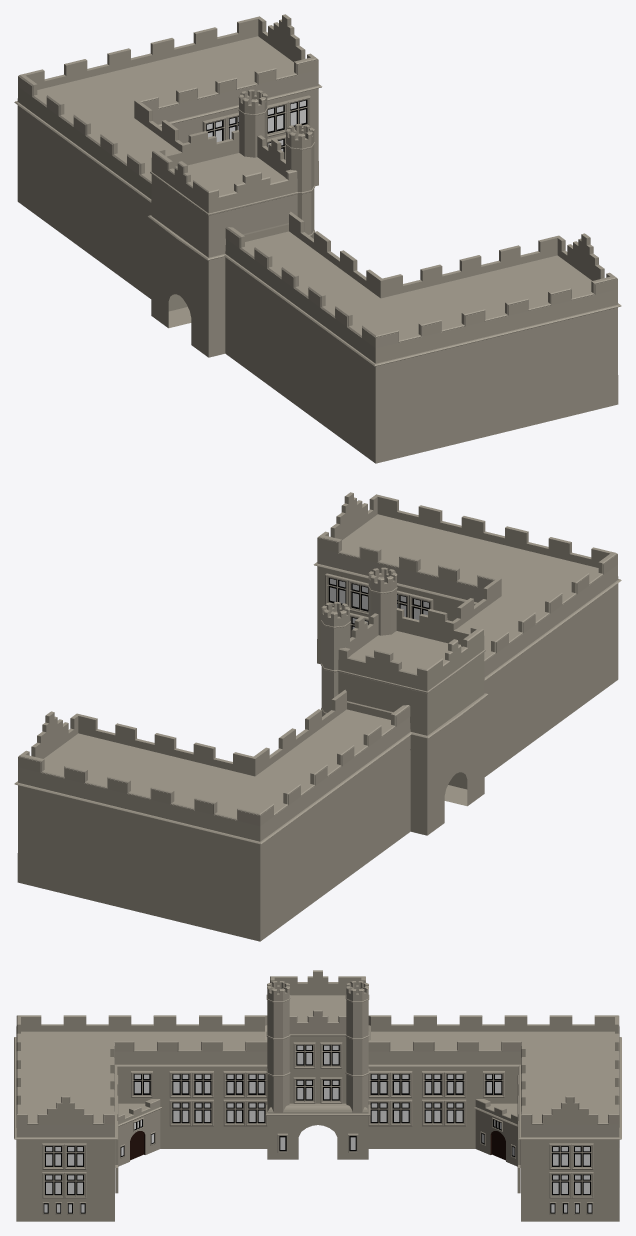
Rendered from Kauke 2.fbx.
3 renders of one model, top to bottom at view 1: azimuth 30°, elevation 25°; view 2: azimuth 150°, elevation 25°; view 3: azimuth 270°, elevation 25°, orthographic. The views are drawn at different scales.
Parts seen in each view (by area): view 1: Building Arms; view 2: Building Arms; view 3: Building Arms.
Boxes of the visible parts, x1=… form: Building Arms: x1=14, y1=14, x2=621, y2=463; Building Arms: x1=14, y1=492, x2=621, y2=941; Building Arms: x1=14, y1=970, x2=621, y2=1221.
Bounding box in the file's own units: 794 × 575 × 1873.
